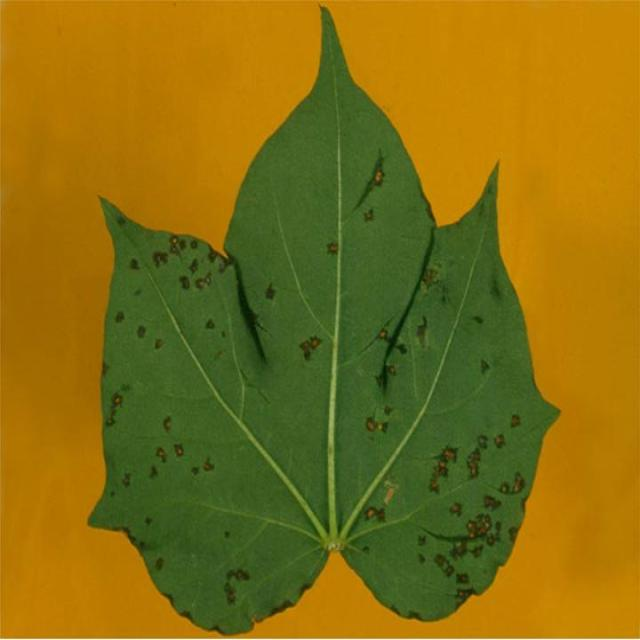Bacterial Blight: (319, 310, 526, 590)
